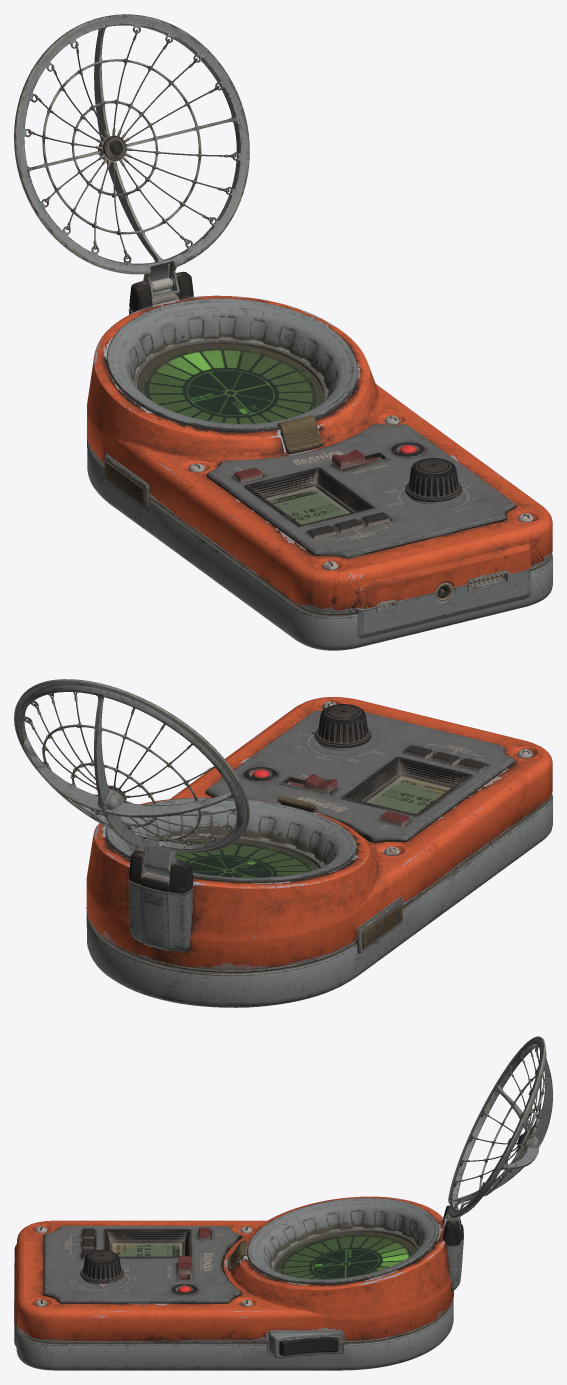
File: detector.fbx
3 views of the same model, one above another, from view 1: azimuth 30°, elevation 25°; view 2: azimuth 150°, elevation 25°; view 3: azimuth 270°, elevation 25° (orthographic). The views are drawn at different scales.
Parts seen in each view (by area): view 1: Object_7, Object_6, Object_4, Object_2, Object_3; view 2: Object_6, Object_4, Object_7, Object_2, Object_3, Object_5; view 3: Object_7, Object_6, Object_4, Object_2, Object_3.
Boxes of the visible parts, box(x1,y1,x2,y2) form: Object_7: box(94, 295, 543, 639); Object_6: box(87, 298, 552, 650); Object_4: box(14, 14, 512, 601); Object_2: box(25, 25, 549, 615); Object_3: box(28, 29, 516, 610); Object_6: box(86, 697, 552, 1007); Object_4: box(18, 680, 513, 972); Object_7: box(93, 697, 545, 981); Object_2: box(14, 679, 548, 964); Object_3: box(23, 692, 543, 953); Object_5: box(40, 684, 243, 851); Object_7: box(14, 1196, 445, 1370); Object_6: box(14, 1198, 453, 1370); Object_4: box(43, 1036, 552, 1358); Object_2: box(20, 1044, 545, 1355); Object_3: box(14, 1048, 543, 1356).
Bounding box in the file's own units: 407 × 518 × 902.
